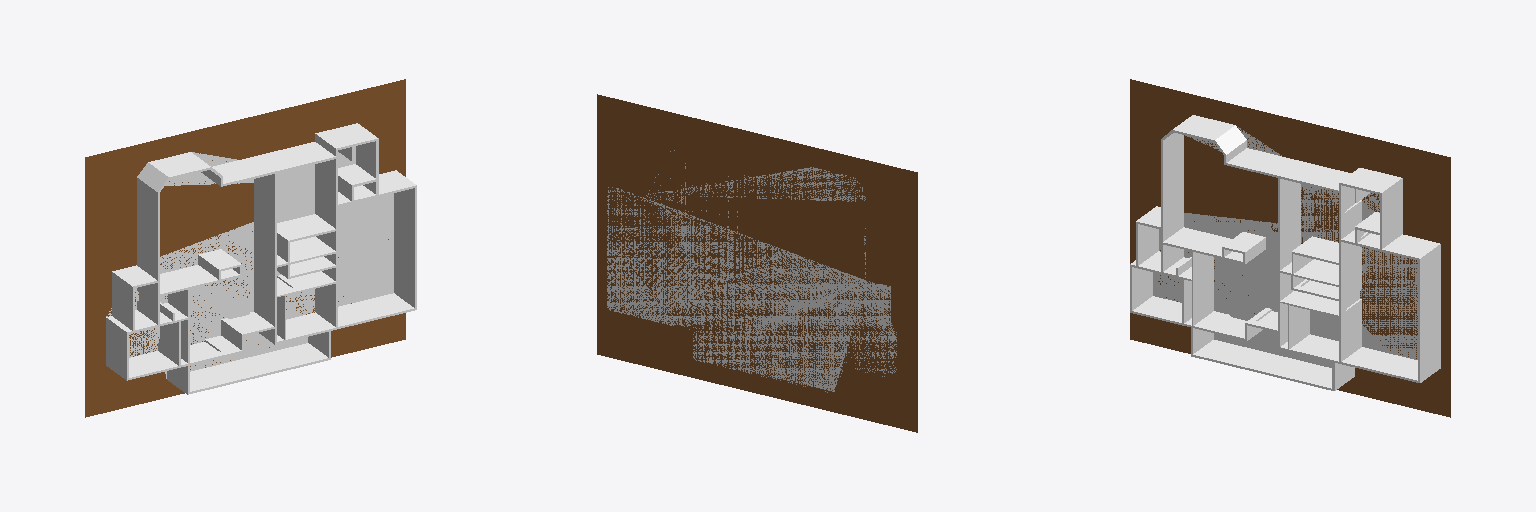
File: floorplan_1.obj
3 renders of one model, left to right at view 1: azimuth 30°, elevation 25°; view 2: azimuth 150°, elevation 25°; view 3: azimuth 330°, elevation 25°, orthographic.
Parts seen in each view (by area): view 1: Mesh1 Group1 Model, Mesh2 Group2 Model; view 2: Mesh2 Group2 Model, Mesh1 Group1 Model; view 3: Mesh1 Group1 Model, Mesh2 Group2 Model.
Boxes of the visible parts, x1,y1,x2,y2 form: Mesh1 Group1 Model: [106, 123, 416, 394]; Mesh2 Group2 Model: [85, 79, 405, 417]; Mesh2 Group2 Model: [597, 94, 917, 432]; Mesh1 Group1 Model: [607, 150, 896, 392]; Mesh1 Group1 Model: [1130, 115, 1440, 390]; Mesh2 Group2 Model: [1130, 79, 1450, 417].
Bounding box in the file's own units: 23131 × 17916 × 2591.